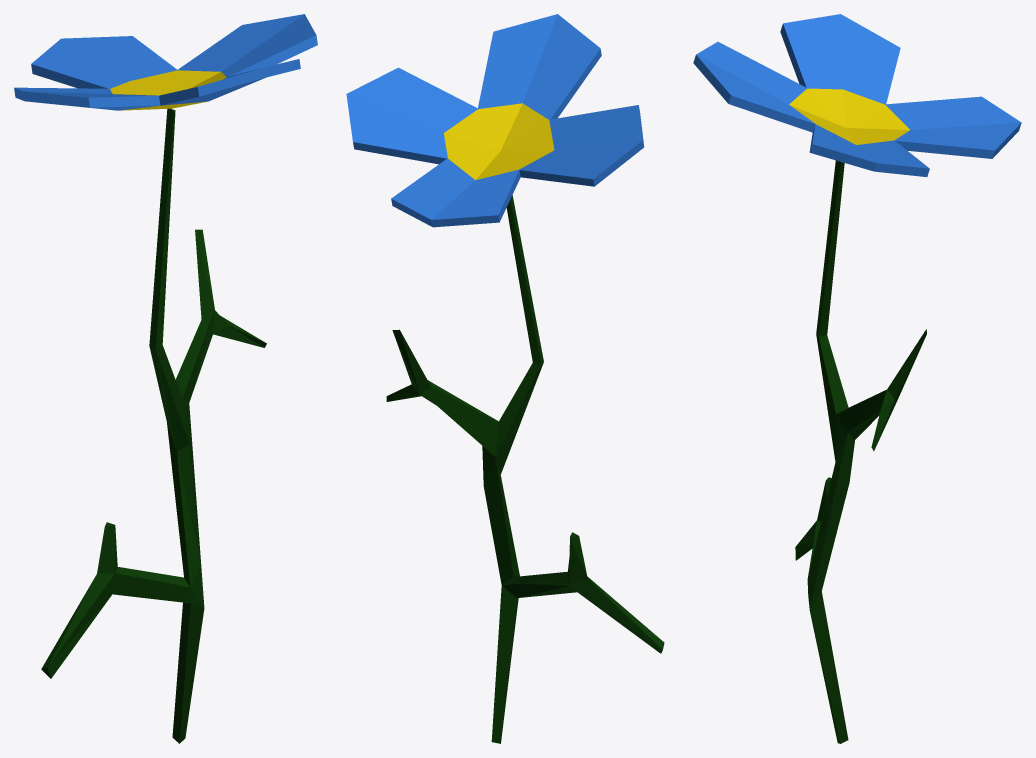
Rendered from blue_flower.fbx.
The picture shows the model from 3 angles, left to right: view 1: azimuth 30°, elevation 25°; view 2: azimuth 150°, elevation 25°; view 3: azimuth 270°, elevation 25°; orthographic projection. The views are drawn at different scales.
Visible parts, largest first — view 1: Cube, Plane.003; view 2: Plane.003, Cube; view 3: Plane.003, Cube.
Boxes of the visible parts, x1,y1,x2,y2 form: Cube: (41,108,266,743); Plane.003: (14,14,317,110); Plane.003: (346,14,644,227); Cube: (386,195,664,743); Plane.003: (693,14,1021,176); Cube: (795,160,926,743).
Bounding box in the file's own units: 19.56 × 45.06 × 19.31.
